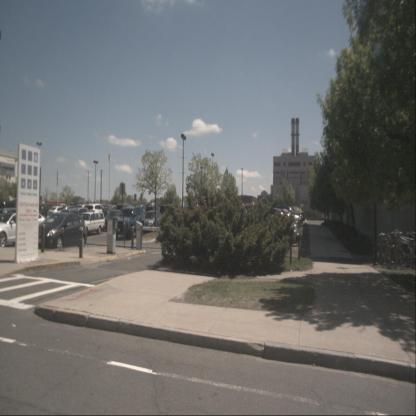vehicle-car: (36, 213, 88, 250), (0, 212, 31, 247), (116, 205, 144, 241), (80, 211, 106, 236), (103, 209, 125, 231), (66, 207, 88, 228), (144, 211, 164, 233), (84, 204, 106, 219), (46, 206, 66, 220), (145, 203, 161, 220)
